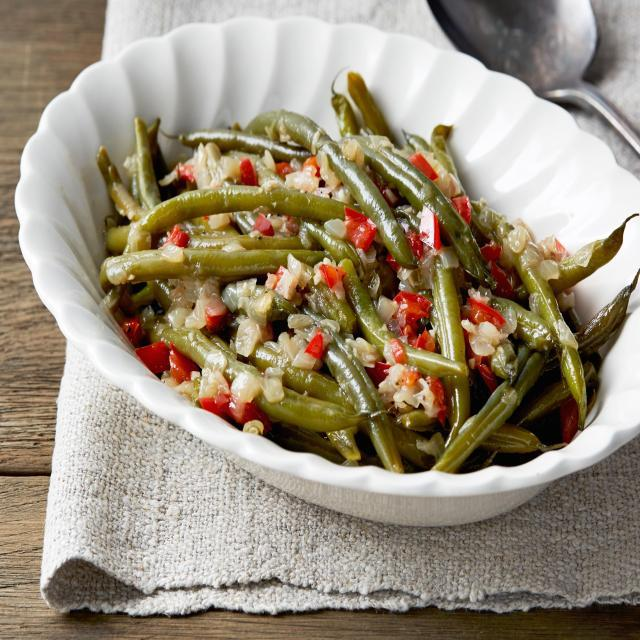Beans: (88, 77, 625, 484)
